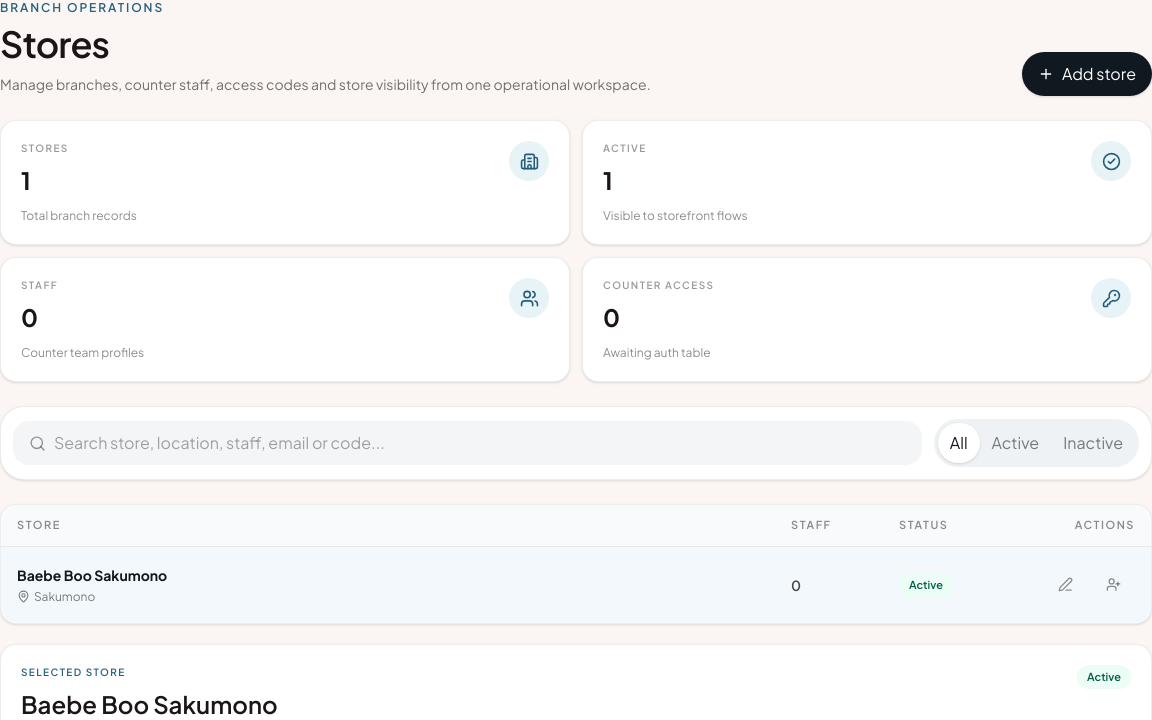
StoreManagement — staff form › keeps the staff form open when the save fails
Click the button named "Add staff to Baebe Boo Sakumono" at (1113, 584), box x1=1091 y1=562 x2=1135 y2=606
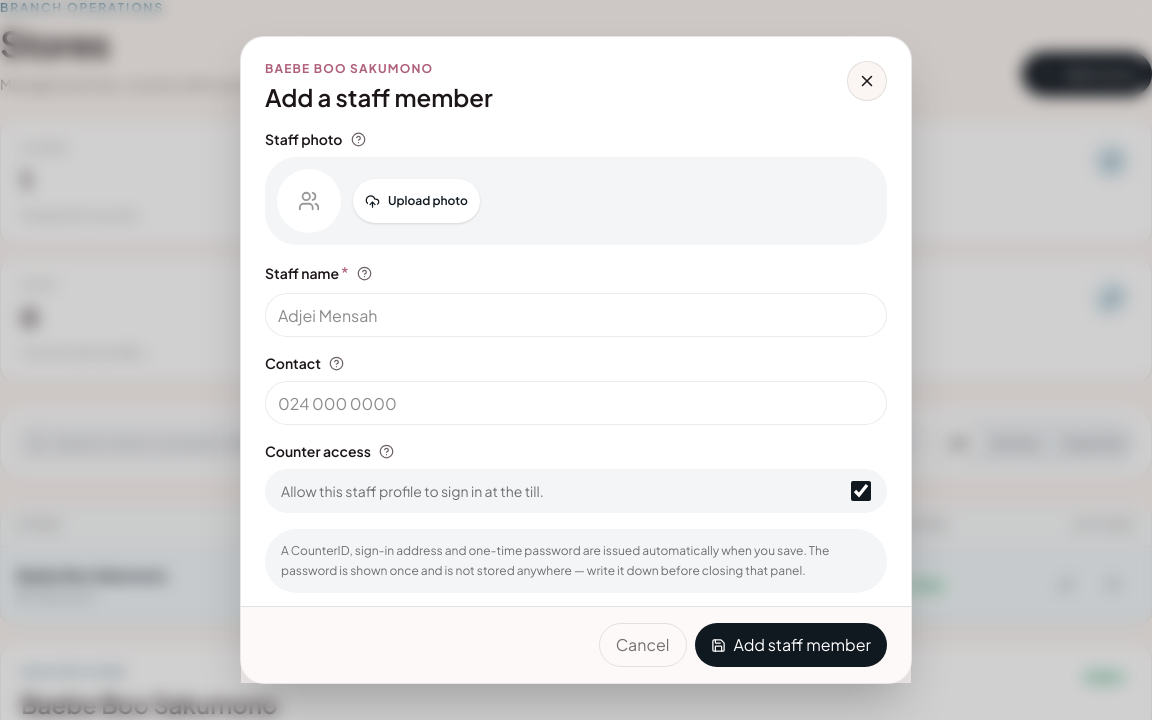
Type "0240000000" into the field labelled "Contact" at (576, 403), box x1=265 y1=381 x2=887 y2=425
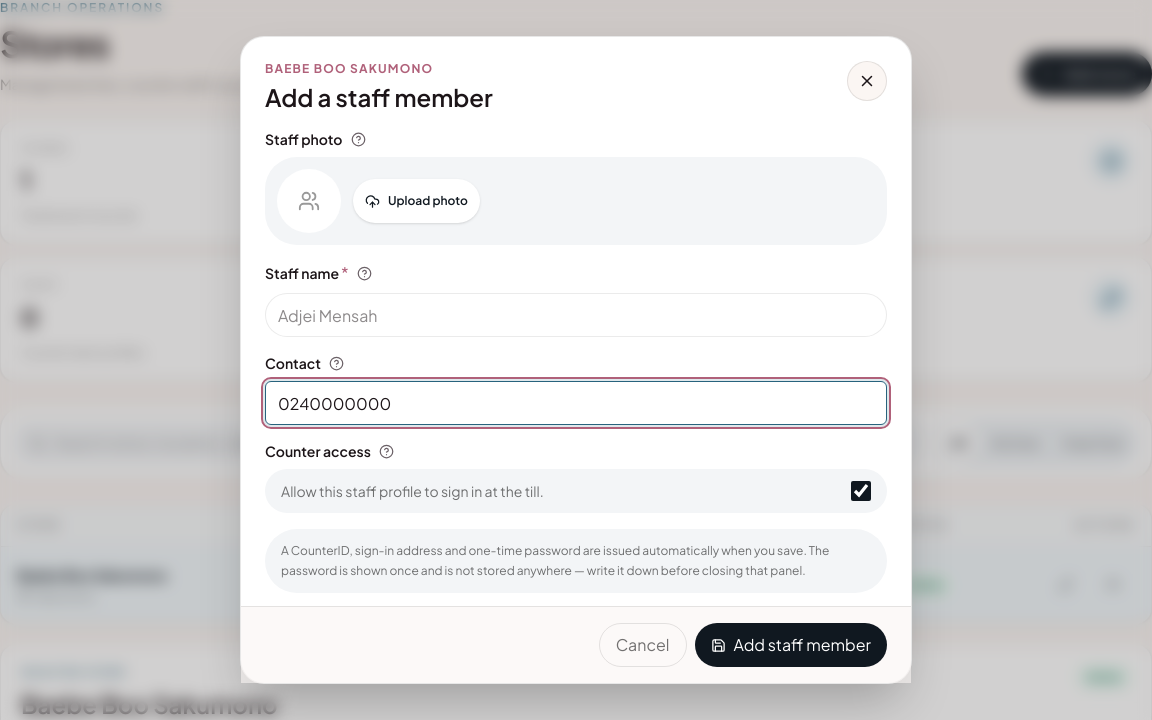
Click the button "Add staff member" at (791, 645), box x1=694 y1=623 x2=887 y2=667
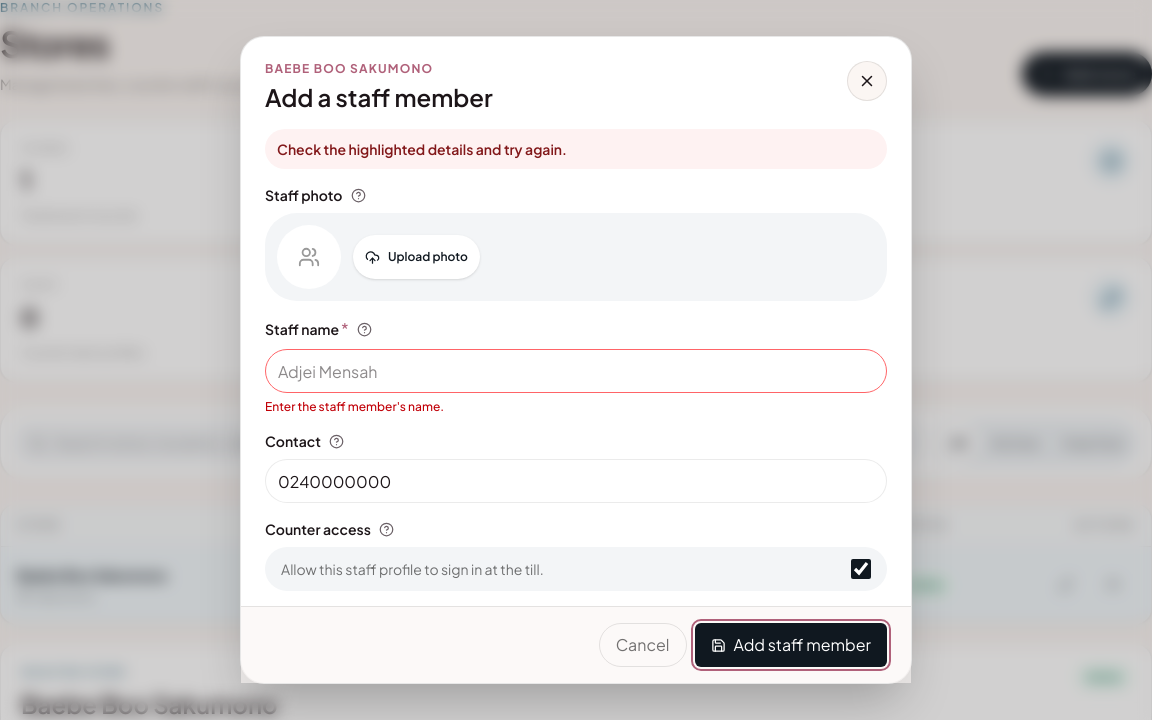
Expected: the dialog is shown, x1=240 y1=36 x2=912 y2=684
Expected: the text "Enter the staff member's name." is shown, x1=265 y1=399 x2=444 y2=414
